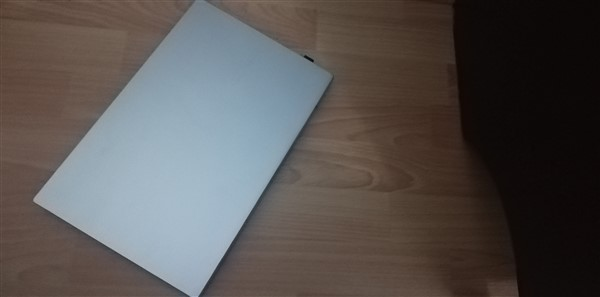laptop: (28, 1, 335, 297)
